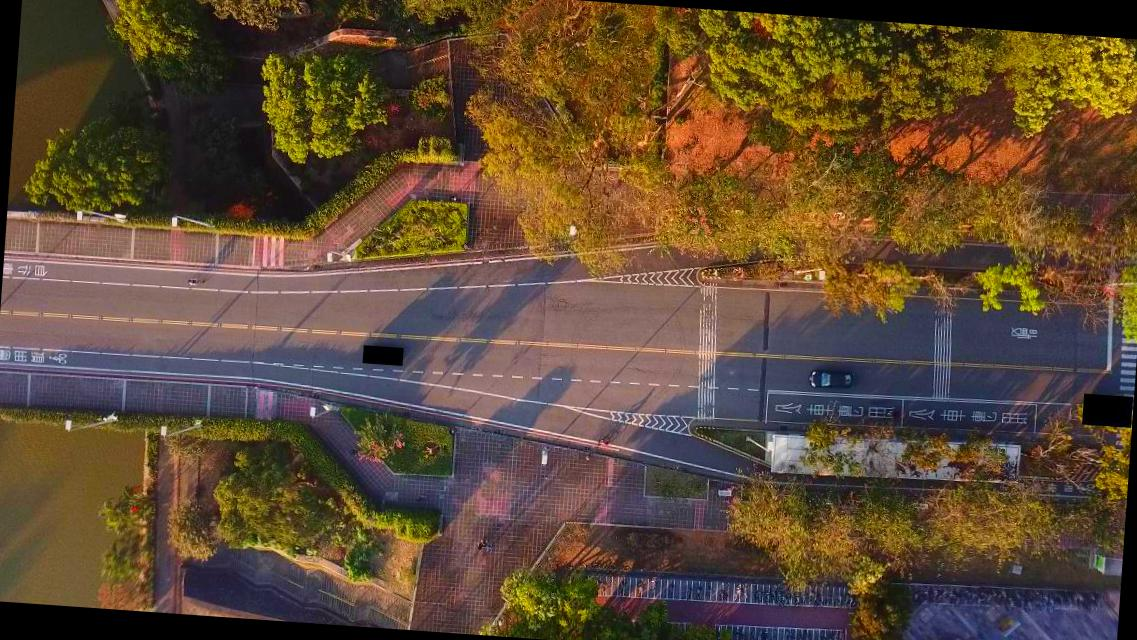vehicle: (808, 368, 857, 391)
